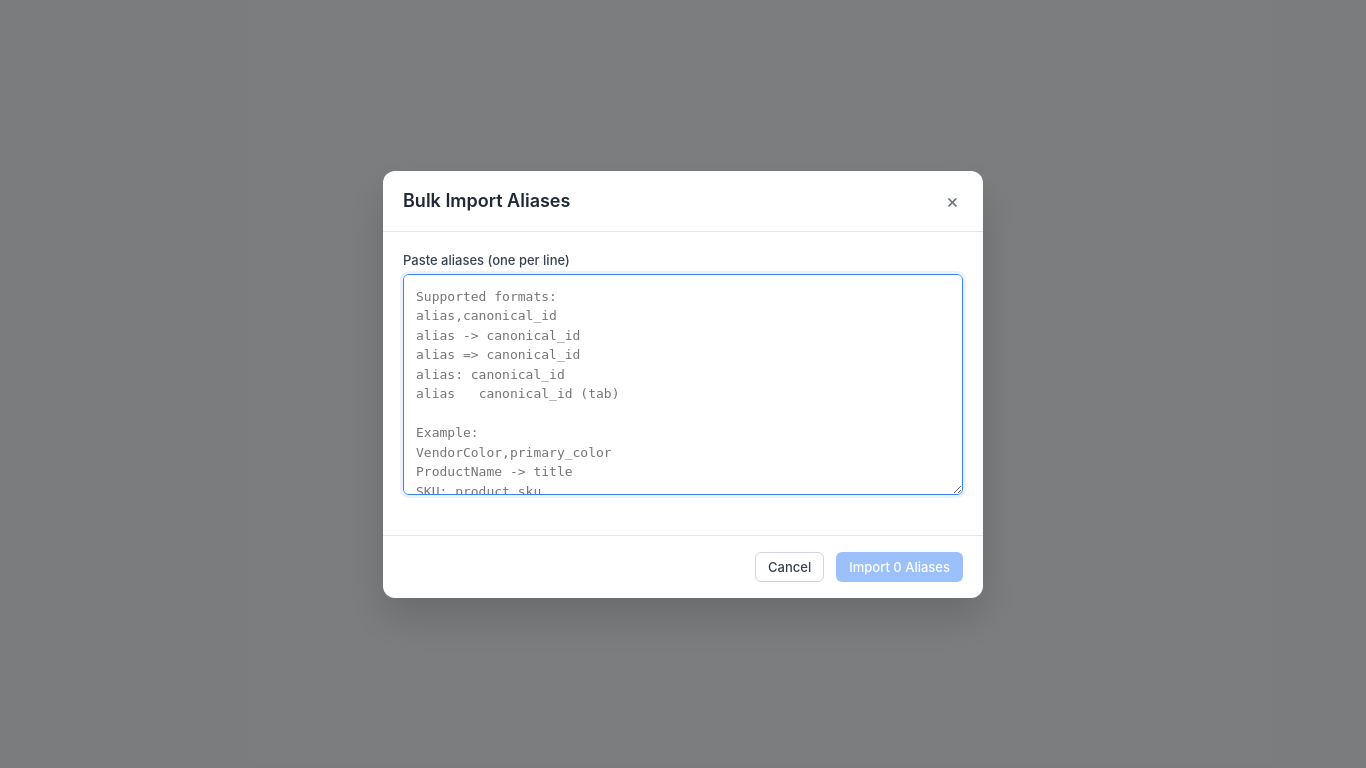
Test: BulkAliasImportModal › should parse comma-separated format
Type "VendorColor,primary_color" into the text box with placeholder "Supported formats" at (683, 384), box [403, 274, 963, 494]
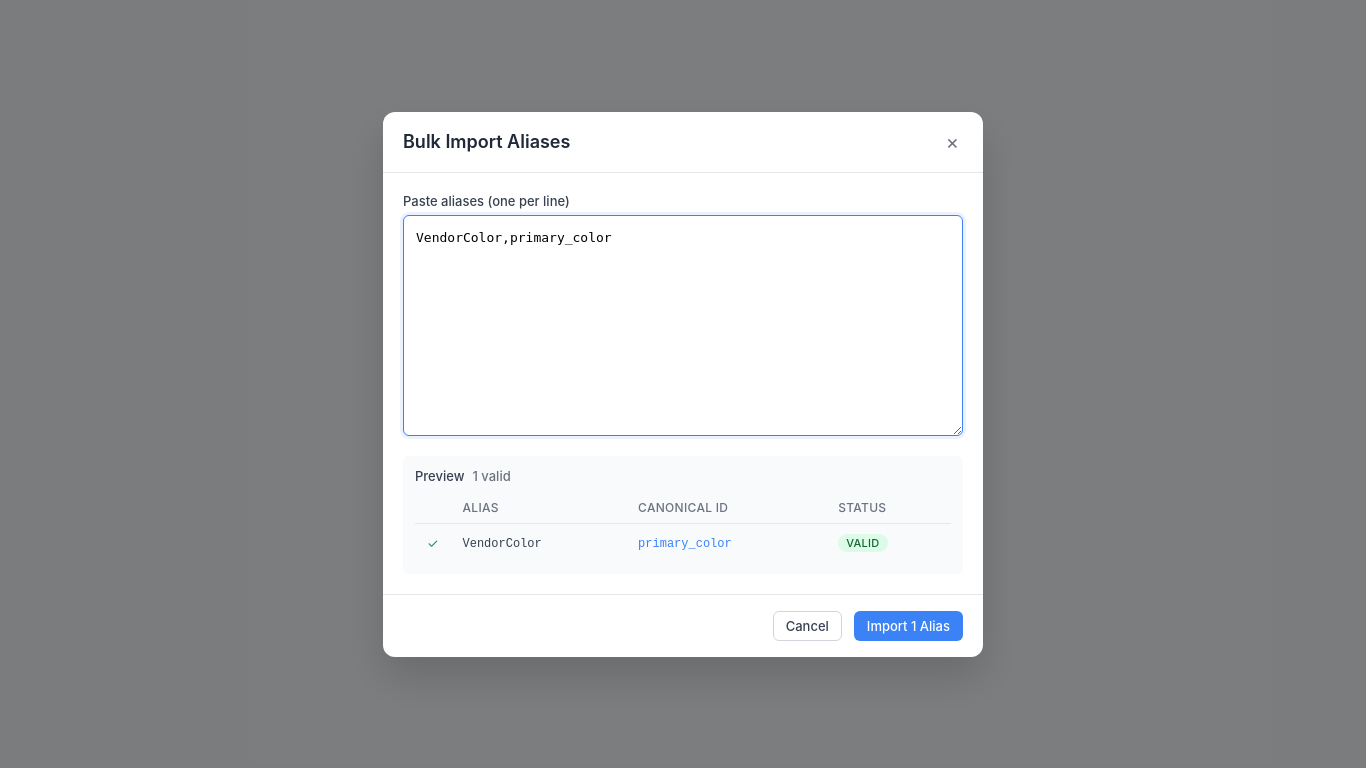
Check: the text "1 valid" is shown, box [472, 468, 511, 484]
